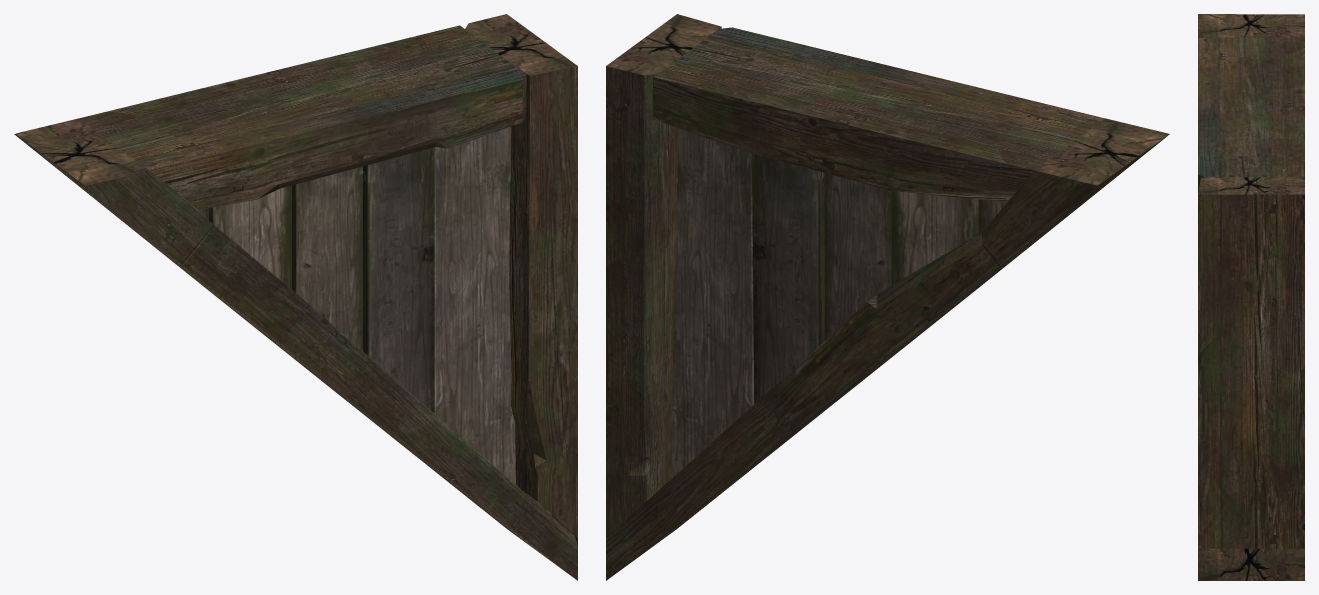
The picture shows the model from 3 angles, left to right: view 1: azimuth 30°, elevation 25°; view 2: azimuth 150°, elevation 25°; view 3: azimuth 270°, elevation 25°; orthographic projection. The views are drawn at different scales.
Parts seen in each view (by area): view 1: SM_BB_T1_Wall_Slanted_Med_Inverted_LOD0; view 2: SM_BB_T1_Wall_Slanted_Med_Inverted_LOD0; view 3: SM_BB_T1_Wall_Slanted_Med_Inverted_LOD0.
Part boxes in pixels (box(x1,y1,x2,y2)): SM_BB_T1_Wall_Slanted_Med_Inverted_LOD0: box(14, 14, 577, 580); SM_BB_T1_Wall_Slanted_Med_Inverted_LOD0: box(606, 14, 1169, 580); SM_BB_T1_Wall_Slanted_Med_Inverted_LOD0: box(1198, 14, 1304, 580).
Bounding box in the file's own units: 1.5 × 1.5 × 0.375.
Materials: 2 (2 with a texture image).
